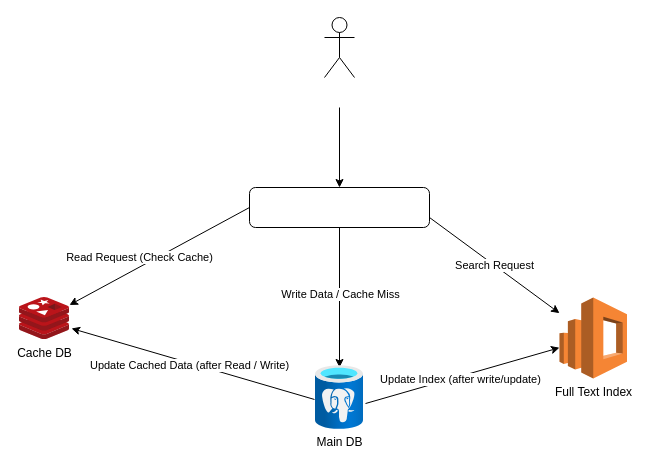
The diagram is 649 pixels wide and 475 high, and some of its shapes have lost their labels. Each missing label, with the centre of its shape:
"Actor" goes at (339,47).
"System Code" goes at (339,207).
